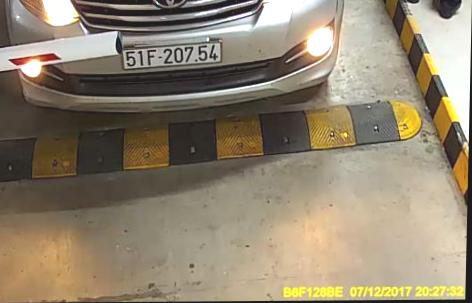License_Plate: (119, 42, 225, 67)
